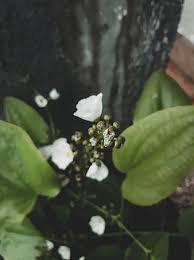jasmine: (62, 94, 117, 125), (44, 136, 80, 171), (83, 206, 107, 232), (87, 159, 110, 186)
